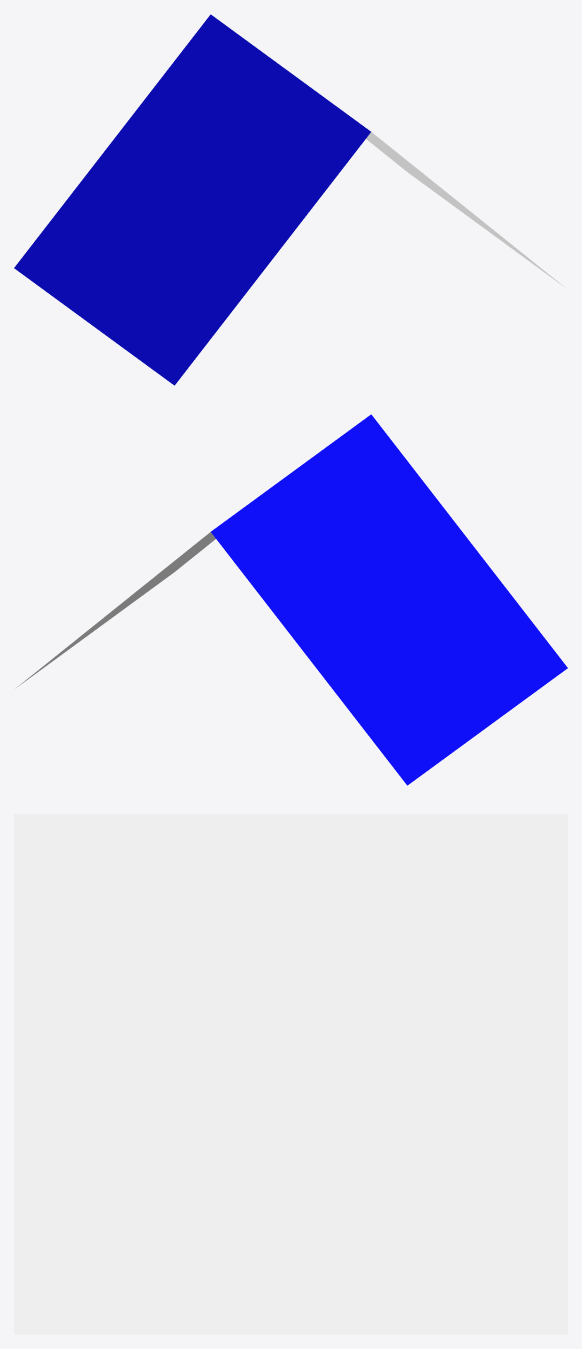
Rendered from Interreflection-7bit-reduced.dae.
3 views of the same model, one above another, from view 1: azimuth 30°, elevation 25°; view 2: azimuth 150°, elevation 25°; view 3: azimuth 270°, elevation 25° (orthographic). The views are drawn at different scales.
Parts seen in each view (by area): view 1: BluePanel, WhitePanel; view 2: BluePanel, WhitePanel; view 3: WhitePanel.
Part boxes in pixels (x1=…): BluePanel: x1=14, y1=14, x2=370, y2=385; WhitePanel: x1=366, y1=132, x2=565, y2=287; BluePanel: x1=211, y1=414, x2=567, y2=785; WhitePanel: x1=16, y1=532, x2=215, y2=687; WhitePanel: x1=14, y1=814, x2=567, y2=1334.
Size of the model in its own units: 2.83 by 2 by 1.41.
